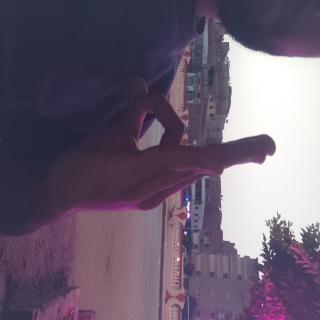Space: (57, 52, 165, 320)
